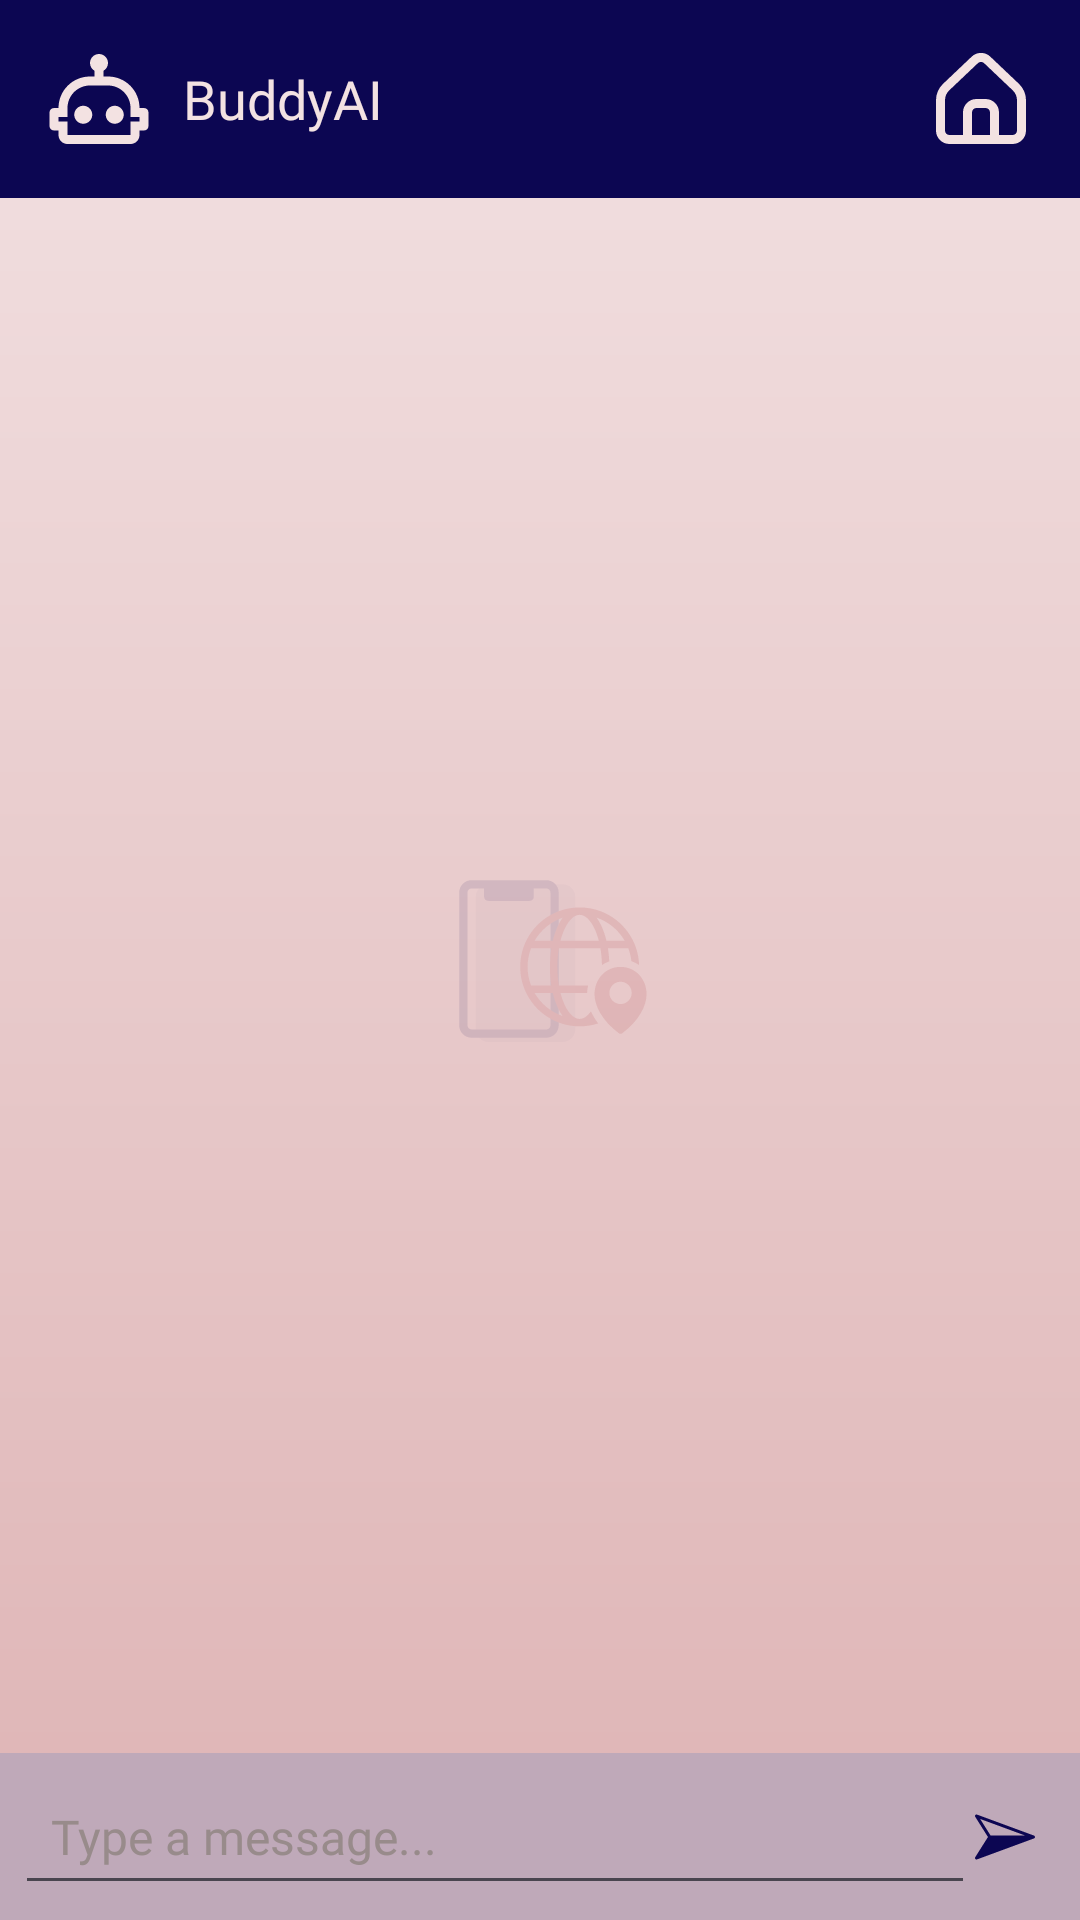

Icons on this 1080×1920 Android screen, each with the point to tap as (x=x, y=y):
send arrow: (x=1005, y=1837)
